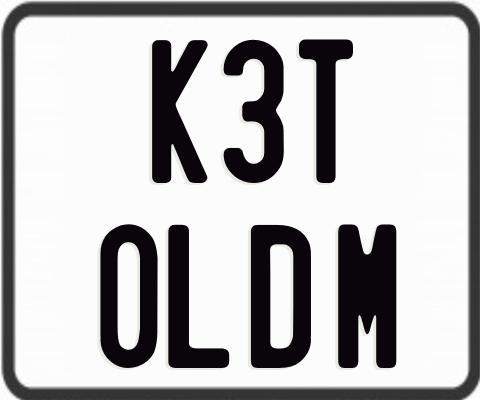0: (97, 224, 159, 372)
3: (222, 38, 287, 187)
D: (251, 224, 314, 369)
K: (152, 39, 212, 183)
L: (167, 224, 231, 373)
M: (337, 223, 400, 369)
T: (297, 36, 354, 183)
